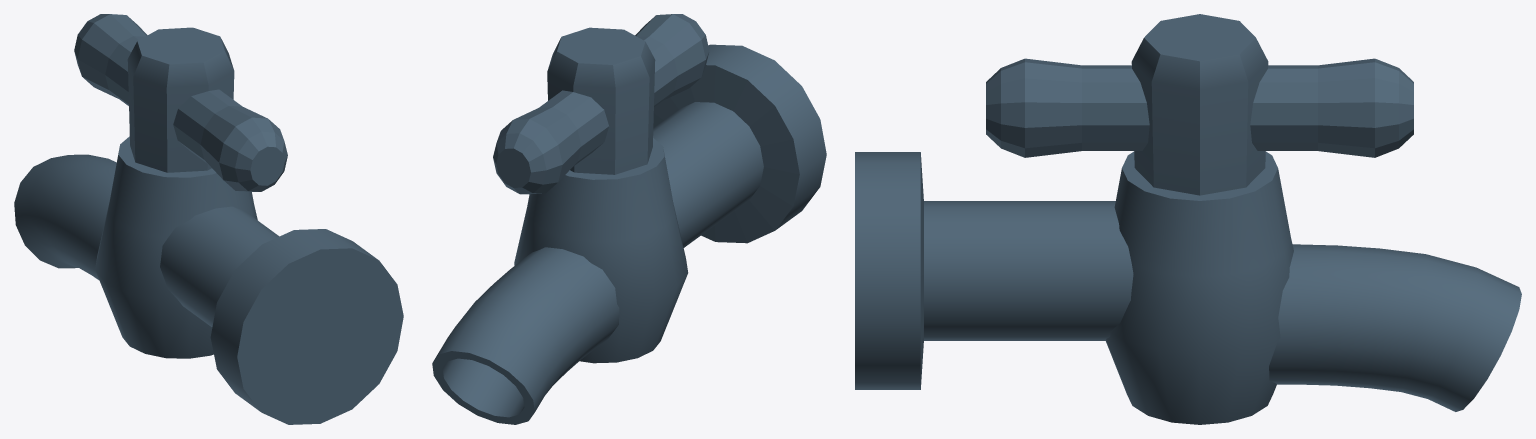
Rendered from gripo.fbx.
The picture shows the model from 3 angles, left to right: view 1: azimuth 30°, elevation 25°; view 2: azimuth 150°, elevation 25°; view 3: azimuth 270°, elevation 25°; orthographic projection. The views are drawn at different scales.
Parts seen in each view (by area): view 1: pCylinder6; view 2: pCylinder6; view 3: pCylinder6.
Part boxes in pixels (left/top/right/bottom): pCylinder6: left=14, top=14, right=403, bottom=424; pCylinder6: left=432, top=14, right=826, bottom=424; pCylinder6: left=855, top=14, right=1521, bottom=424.
Bounding box in the file's own units: 6.11 × 10.41 × 17.12.
